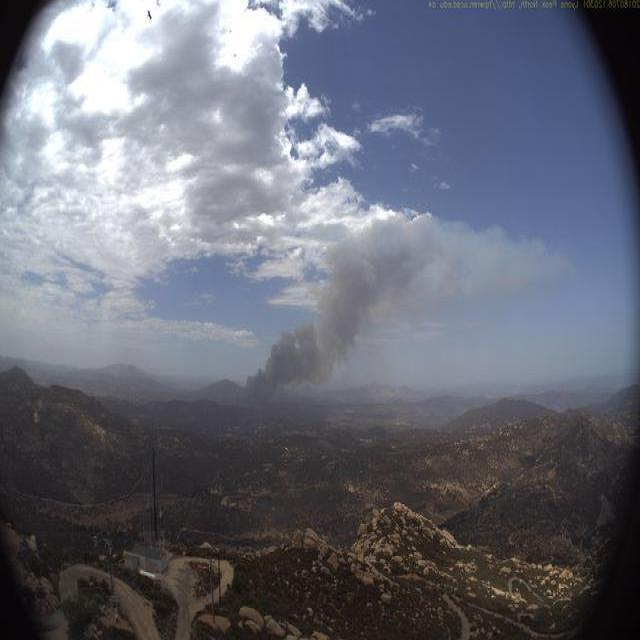Smoke: (234, 209, 570, 412)
